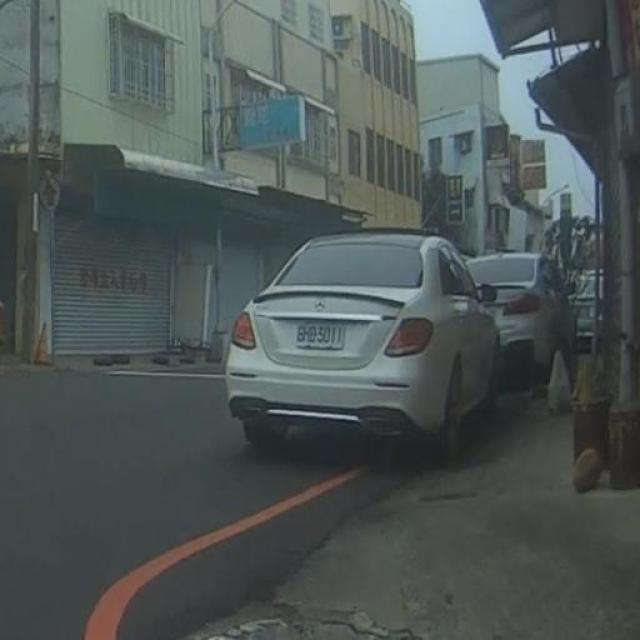illegalparking: (226, 229, 575, 458)
